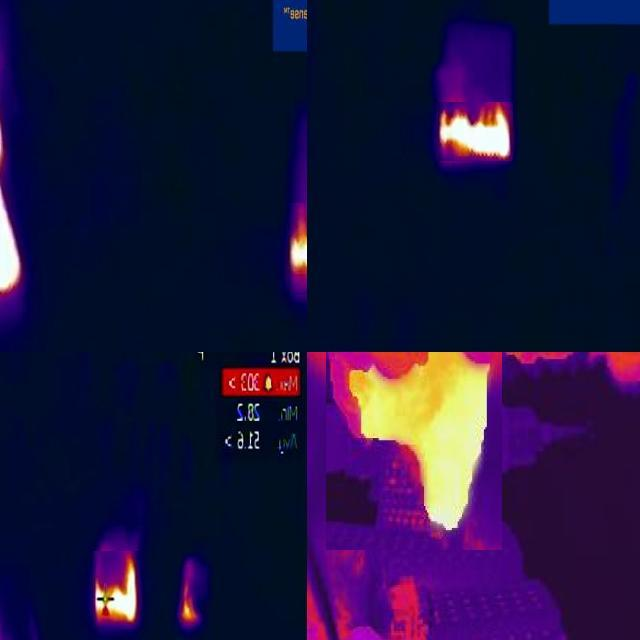fire: (348, 353, 494, 534), (438, 102, 513, 161), (93, 551, 140, 629), (1, 182, 25, 295), (288, 203, 308, 295), (177, 556, 201, 627)
